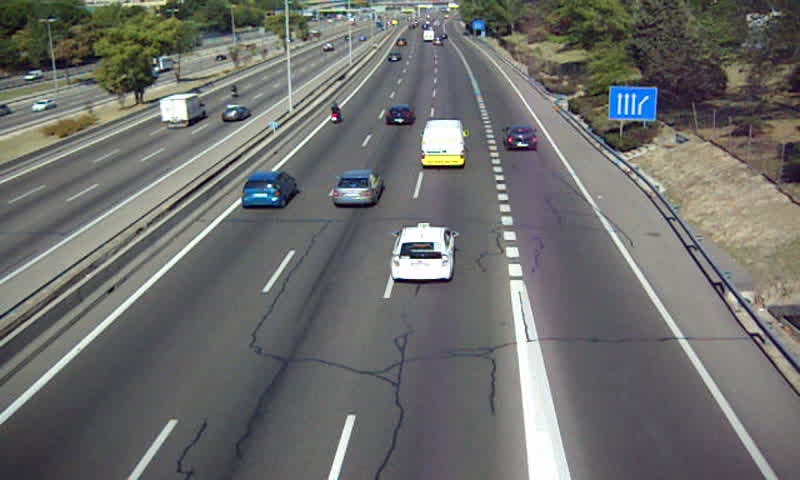car: (391, 226, 453, 281), (330, 169, 383, 209), (241, 173, 296, 207), (502, 125, 539, 151), (384, 107, 414, 127), (384, 52, 404, 63)
motorcycle: (329, 103, 342, 128)
van: (421, 120, 466, 168)
